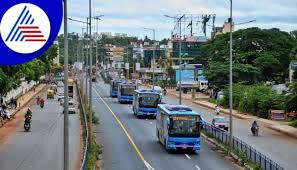Car: (209, 115, 230, 132)
Chigari: (159, 104, 200, 151), (137, 88, 162, 118), (118, 80, 137, 103), (110, 78, 121, 99)
